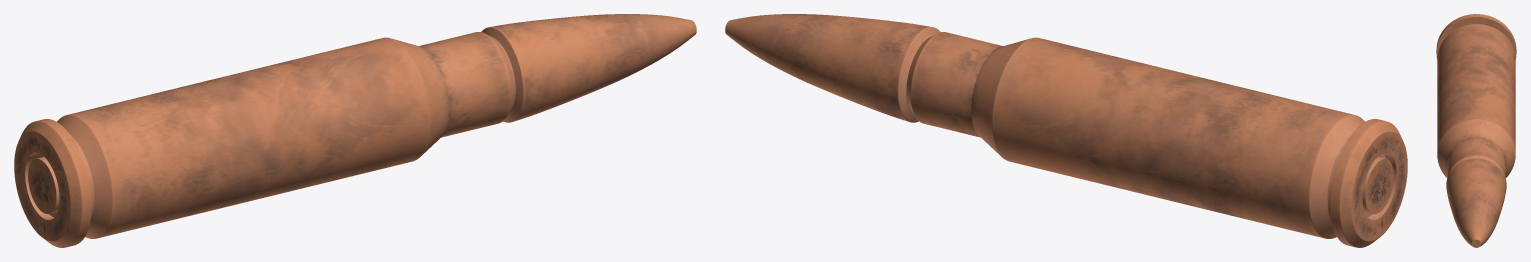
File: bullet.glb
The picture shows the model from 3 angles, left to right: view 1: azimuth 30°, elevation 25°; view 2: azimuth 150°, elevation 25°; view 3: azimuth 270°, elevation 25°; orthographic projection. The views are drawn at different scales.
Visible parts, largest first — view 1: Bullet; view 2: Bullet; view 3: Bullet.
Boxes of the visible parts, box(x1,y1,x2,y2) form: Bullet: box(14, 14, 696, 247); Bullet: box(725, 14, 1407, 247); Bullet: box(1436, 14, 1516, 247).
Size of the model in its own units: 11.67 by 2.02 by 2.02.
1 material, 1 textured.
